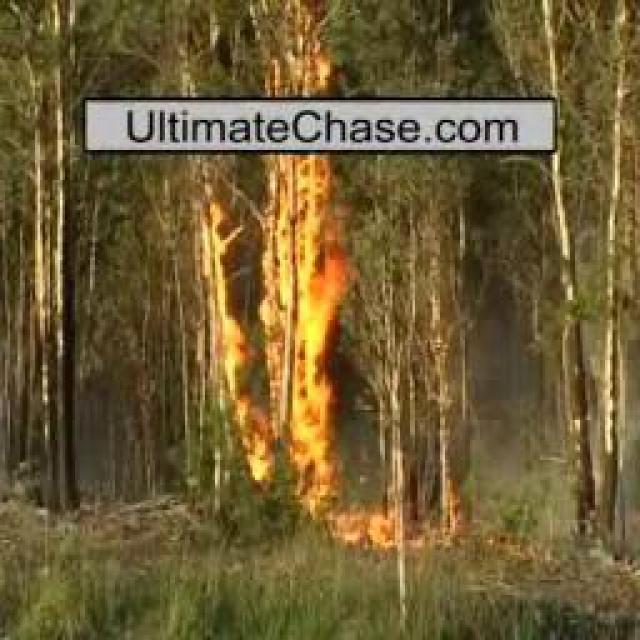Fire: (198, 157, 347, 493), (266, 15, 335, 95), (329, 503, 416, 555)
